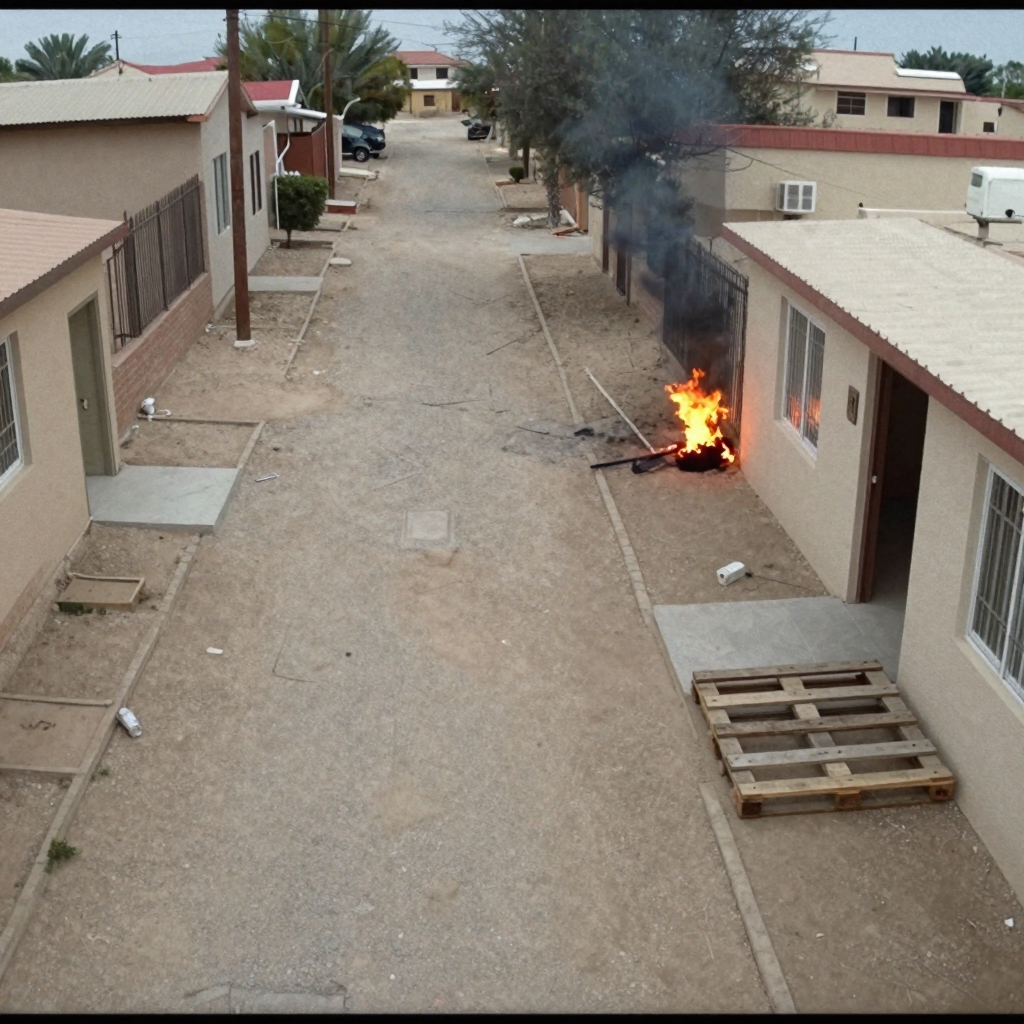Arson: (667, 368, 739, 470)
Explosion: (588, 66, 748, 357)
